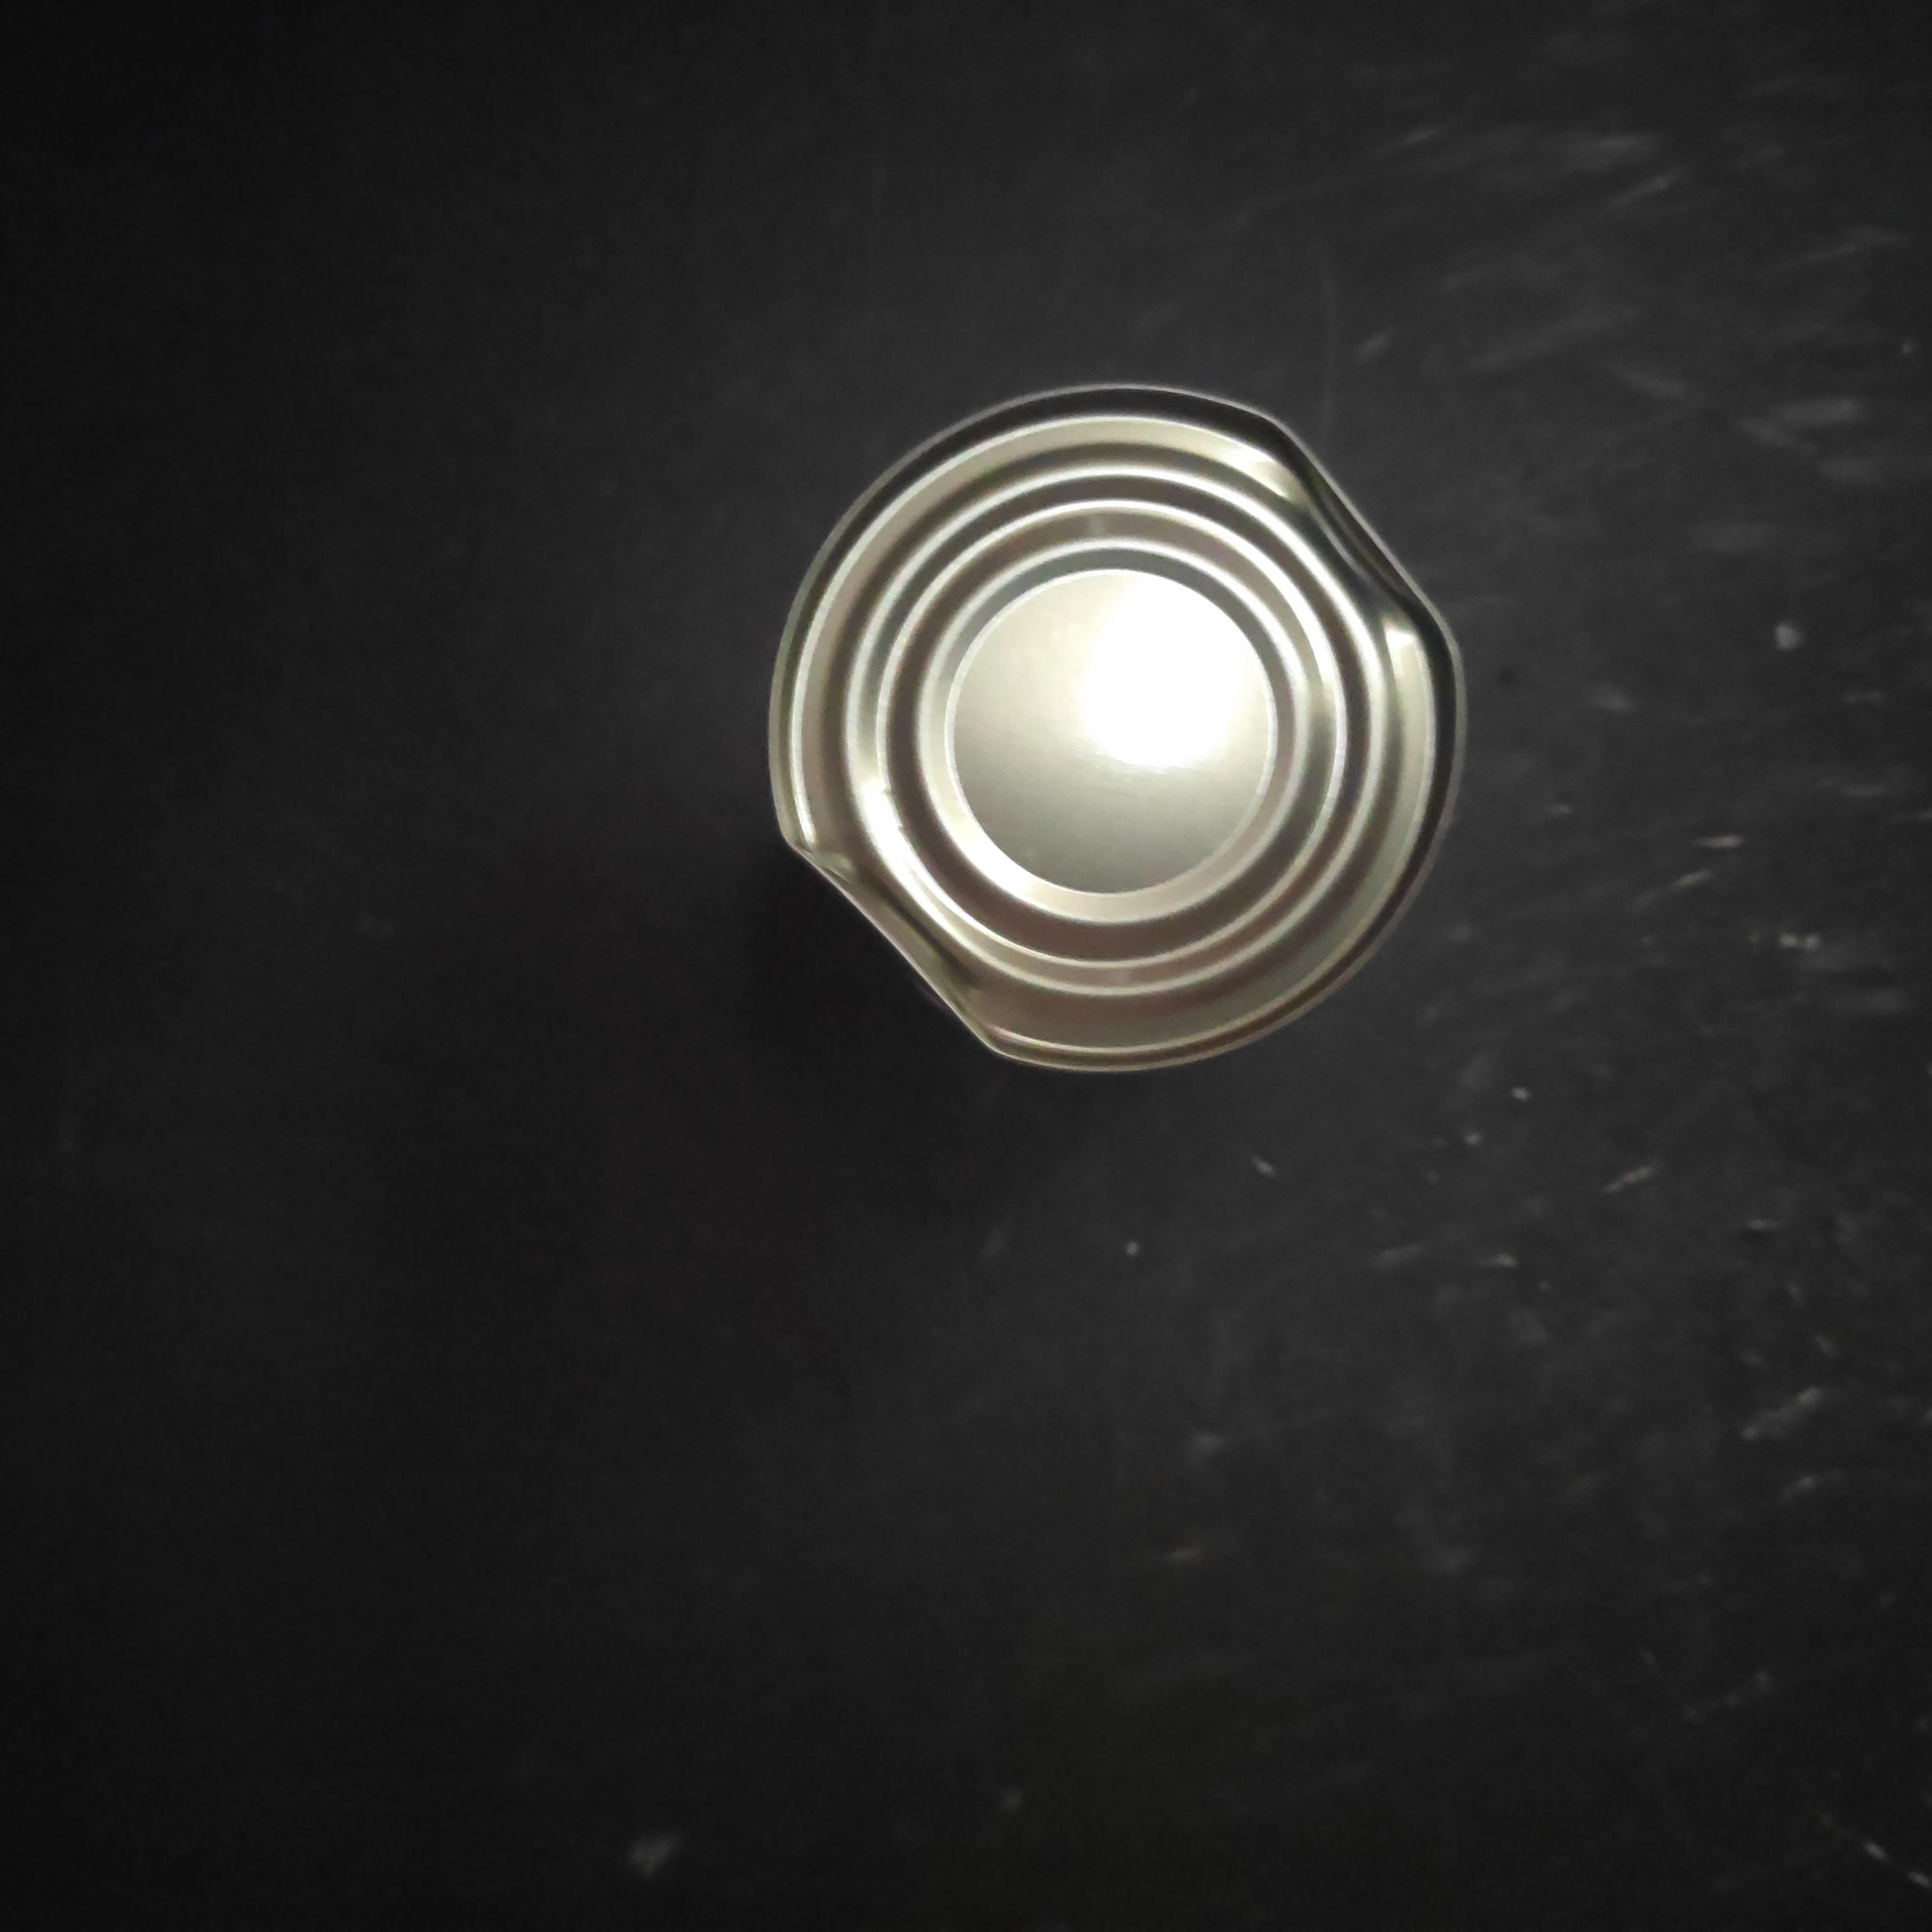Minor Defect: (452, 844, 1183, 1561)
